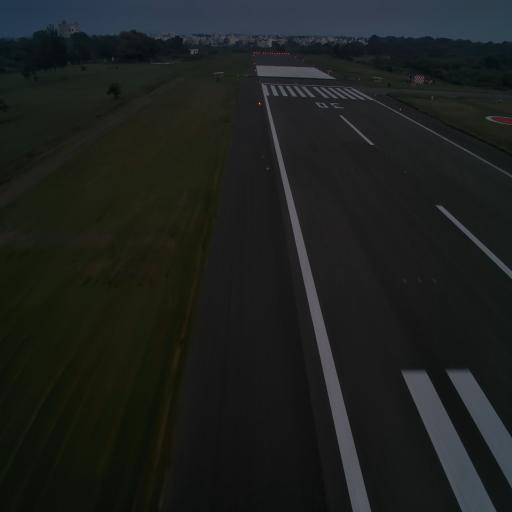off: (431, 274, 438, 286), (402, 276, 408, 288), (417, 276, 423, 287), (352, 167, 355, 175), (335, 167, 338, 174), (343, 168, 347, 173)
on: (265, 162, 271, 172), (376, 144, 380, 152), (404, 168, 407, 176)
